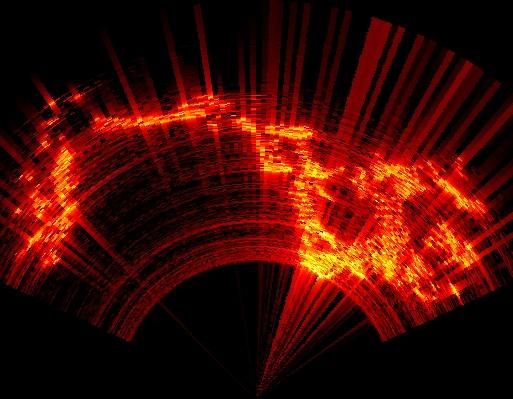shipwreck: (93, 96, 485, 300), (14, 136, 84, 265), (420, 221, 478, 267)
